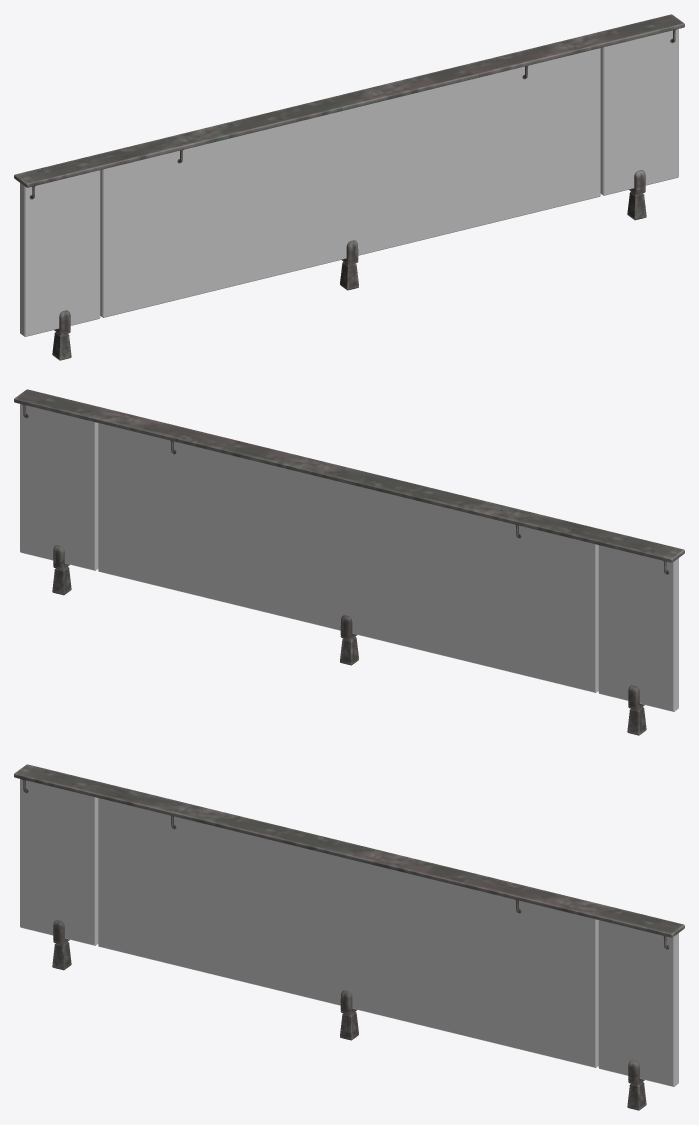
The model's file is SM_Fence_Glass_90d36b.glb.
3 views of the same model, one above another, from view 1: azimuth 30°, elevation 25°; view 2: azimuth 150°, elevation 25°; view 3: azimuth 330°, elevation 25° (orthographic).
Bounding box in the file's own units: 4.01 × 1.09 × 0.141.
Materials: 2 (1 with a texture image).
